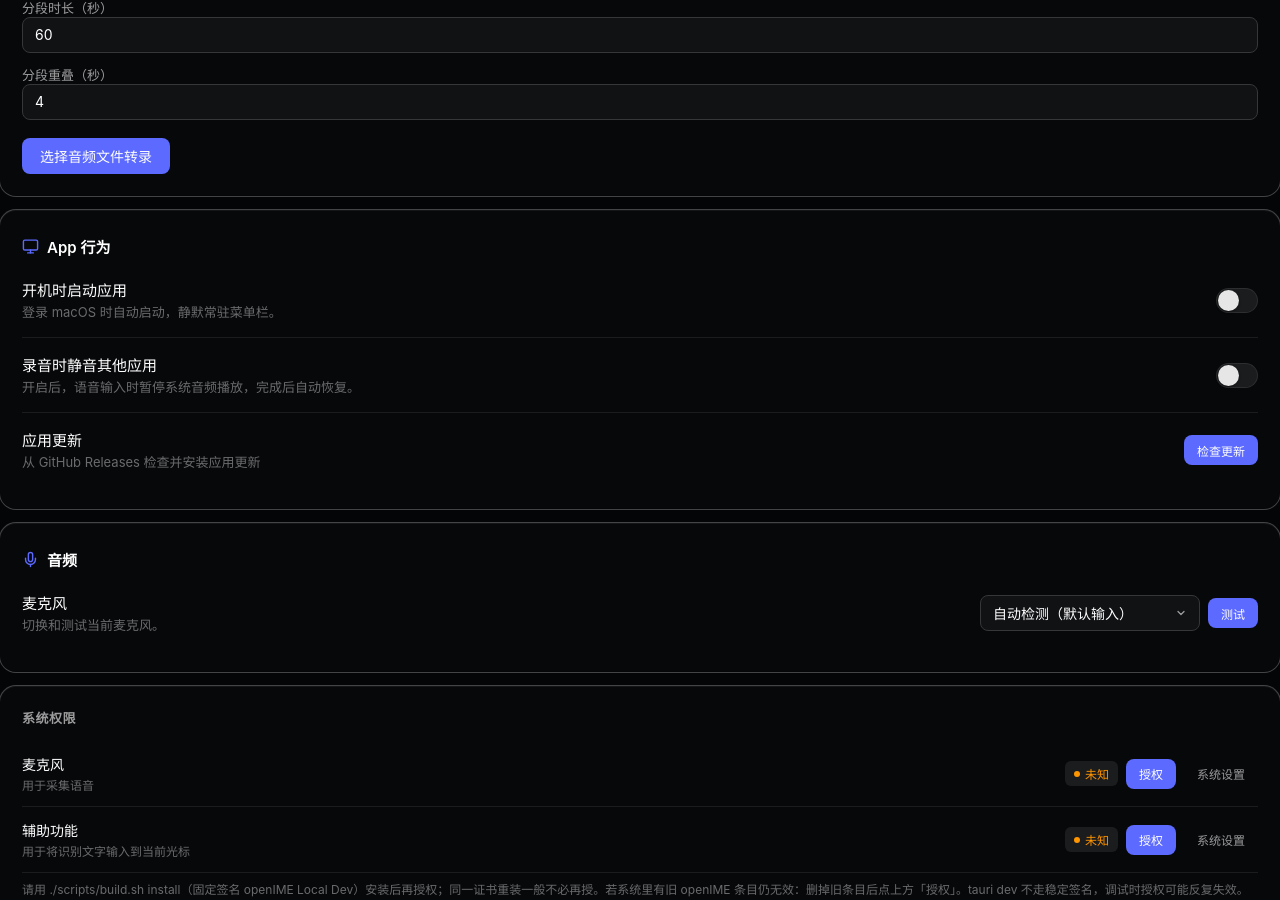
Settings › 检查更新：已是最新版本
(page scrolled)
Click the button "检查更新".
click(1221, 450)  # box top-left (1184, 435), bottom-right (1258, 465)
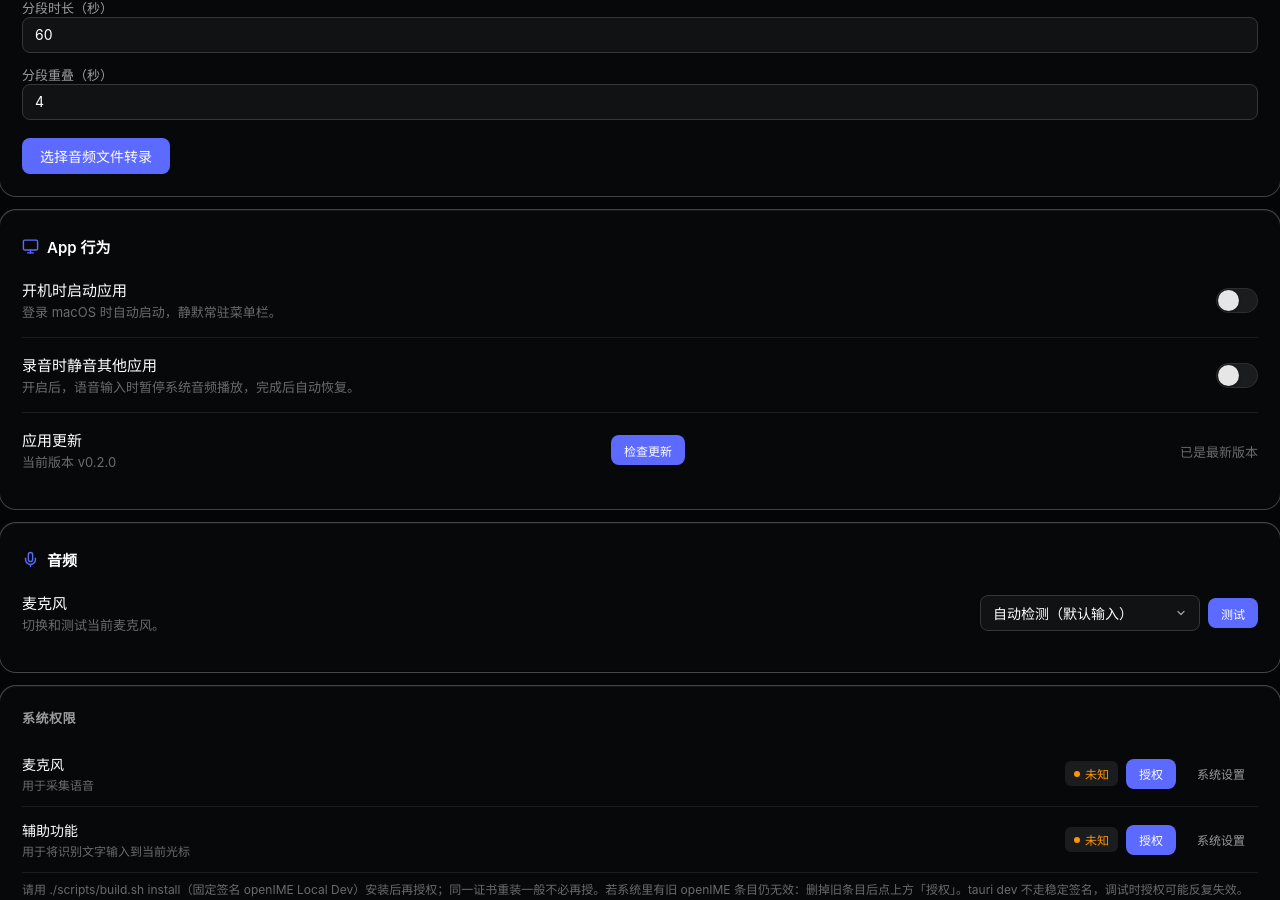
expect the text "已是最新版本" is shown: met, box top-left (1180, 442), bottom-right (1258, 460)
